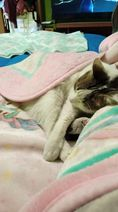cat: (40, 48, 116, 166)
